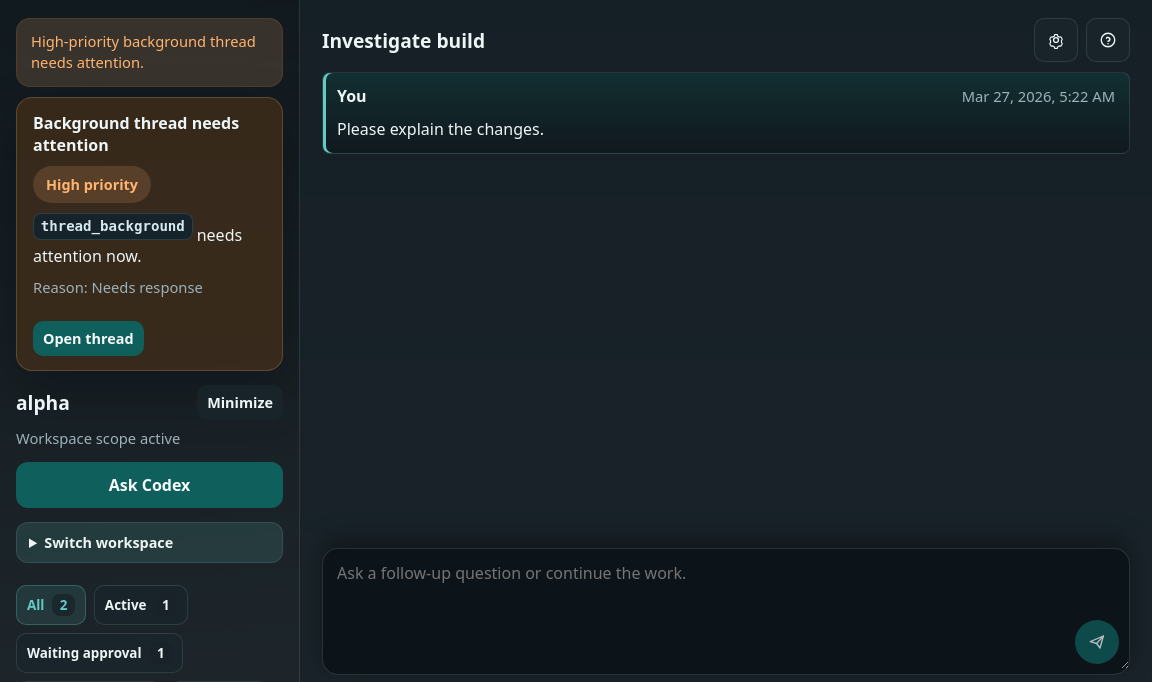
Test case: ChatPageClient › shows a targeted notice for a background high-priority thread and opens it on demand
The image size is (1152, 682).
Check: the text "Request detail" is not shown
Check: the message with class "navigation-feedback-note-notification" reads "High-priority background thread needs attention.", box x1=31 y1=31 x2=256 y2=72
Click the button "Open thread" at (88,339), box x1=33 y1=321 x2=144 y2=356
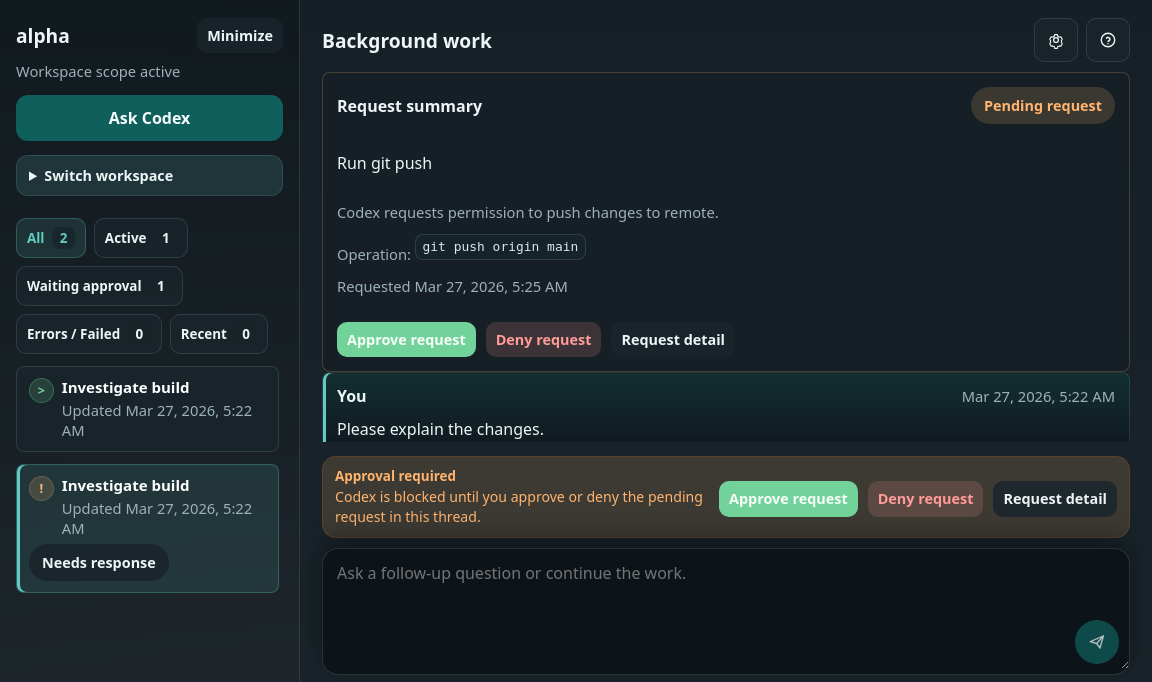
Check: the text "Background work" is shown, box x1=322 y1=26 x2=492 y2=54
Check: the text "Approve request" is shown, box x1=337 y1=322 x2=476 y2=357
Check: the text "Deny request" is shown, box x1=486 y1=322 x2=602 y2=357
